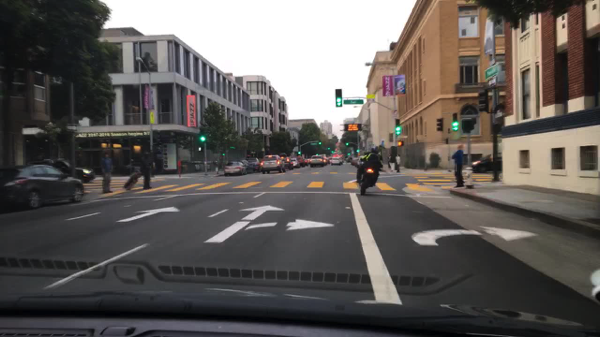car: (0, 162, 87, 209), (27, 155, 96, 183), (469, 152, 502, 174), (259, 154, 286, 174), (223, 160, 248, 176), (244, 154, 262, 170), (178, 159, 198, 173), (237, 160, 255, 174), (280, 156, 295, 169), (310, 154, 322, 167), (289, 157, 301, 169), (317, 153, 329, 165), (191, 161, 206, 170), (330, 155, 341, 166), (295, 156, 305, 167), (351, 157, 361, 167), (303, 157, 312, 166), (205, 160, 210, 173), (344, 156, 353, 162), (338, 154, 345, 161)
motor: (358, 164, 378, 198)
person: (138, 151, 157, 191), (449, 143, 466, 187), (99, 153, 115, 194), (387, 153, 396, 172), (395, 153, 401, 174), (213, 161, 220, 175)
rider: (355, 146, 384, 183)
traffic light: (460, 118, 477, 134), (477, 89, 488, 113), (393, 119, 401, 136), (335, 88, 342, 107), (452, 114, 459, 132), (436, 117, 443, 132), (396, 140, 403, 148), (199, 135, 206, 142), (346, 152, 351, 159), (198, 146, 202, 154), (221, 151, 225, 158), (344, 141, 348, 148), (356, 148, 360, 154), (318, 140, 321, 147), (327, 147, 331, 152), (229, 147, 235, 150)
traffic sign: (484, 63, 502, 78), (343, 124, 362, 132), (487, 75, 496, 87), (343, 100, 363, 105), (364, 101, 373, 111), (390, 109, 399, 118), (365, 93, 375, 100), (149, 111, 154, 124), (494, 112, 502, 120), (309, 141, 318, 147)
